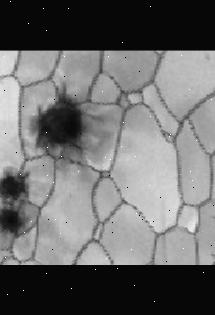good_void: (32, 85, 92, 159), (0, 165, 32, 204), (0, 203, 25, 236)
